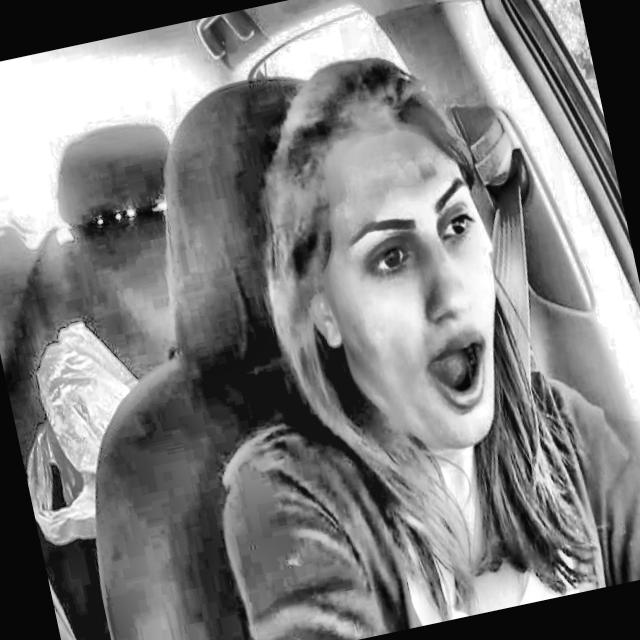open_eyes: (355, 233, 425, 297), (430, 198, 492, 253)
open_mouth: (407, 327, 500, 417)
